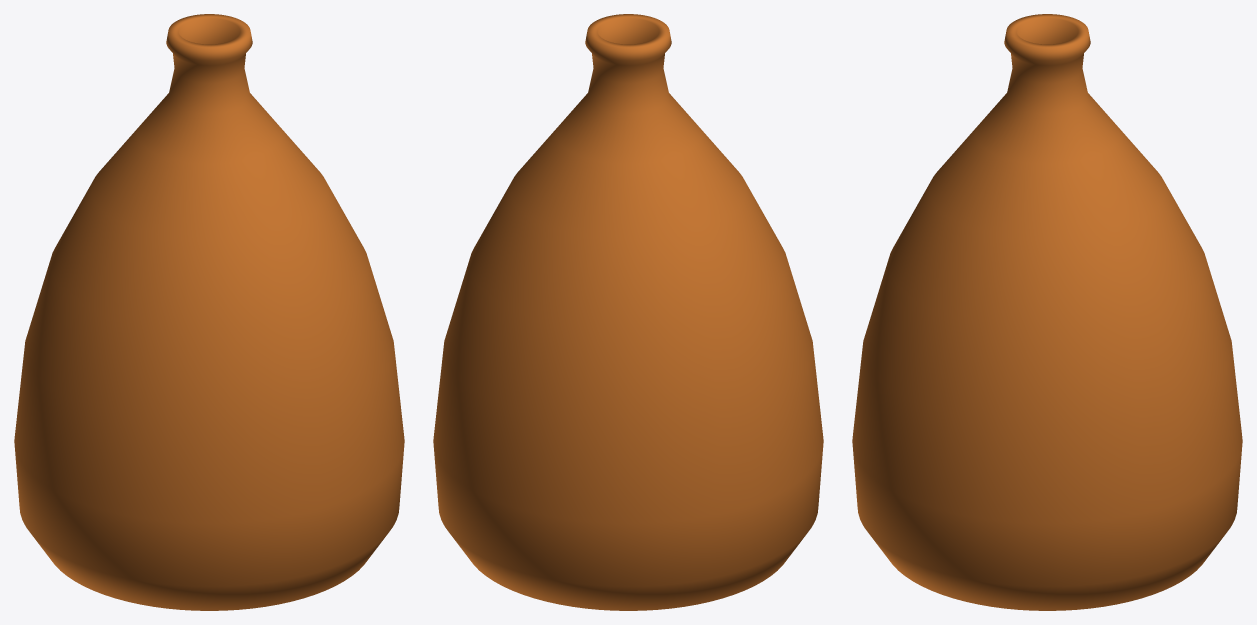
The model's file is laredoute-vase-izolia.glb.
The picture shows the model from 3 angles, left to right: view 1: azimuth 30°, elevation 25°; view 2: azimuth 150°, elevation 25°; view 3: azimuth 270°, elevation 25°; orthographic projection.
Visible parts, largest first — view 1: laredoute-vase-izolia; view 2: laredoute-vase-izolia; view 3: laredoute-vase-izolia.
Boxes of the visible parts, left/top/right/bottom form: laredoute-vase-izolia: left=14, top=14, right=404, bottom=610; laredoute-vase-izolia: left=433, top=14, right=823, bottom=610; laredoute-vase-izolia: left=852, top=14, right=1242, bottom=610.
Size of the model in its own units: 0.38 by 0.558 by 0.38.
